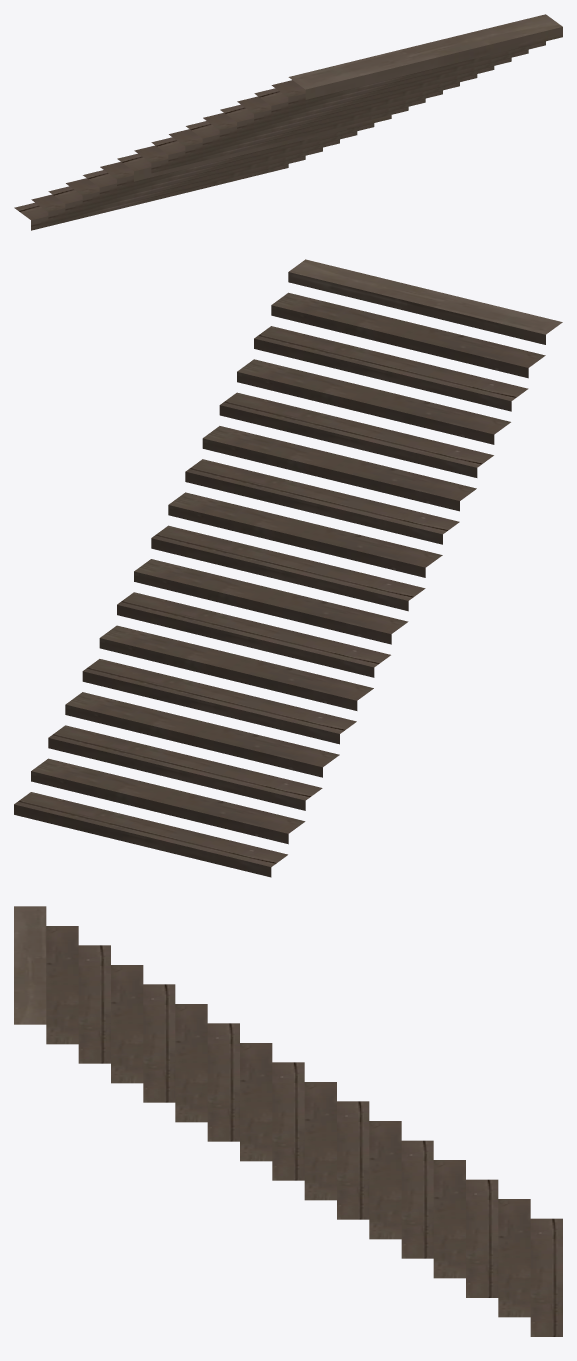
The picture shows the model from 3 angles, top to bottom: view 1: azimuth 30°, elevation 25°; view 2: azimuth 150°, elevation 25°; view 3: azimuth 270°, elevation 25°; orthographic projection. The views are drawn at different scales.
Parts seen in each view (by area): view 1: body0_model0_lod0_mesh0; view 2: body0_model0_lod0_mesh0; view 3: body0_model0_lod0_mesh0.
Part boxes in pixels (x1,y1,x2,y2): body0_model0_lod0_mesh0: (14, 14, 562, 230); body0_model0_lod0_mesh0: (14, 259, 562, 877); body0_model0_lod0_mesh0: (14, 906, 562, 1336).
Size of the model in its own units: 104 by 132 by 204.
Materials: 1 (1 with a texture image).
